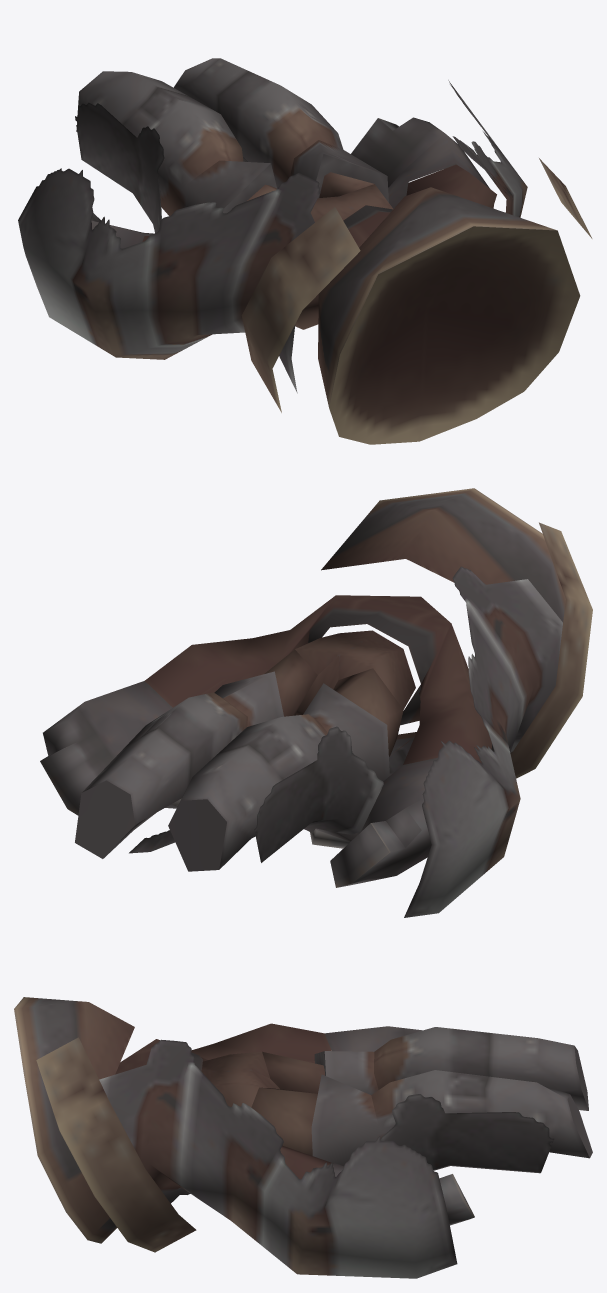
The model's file is jockey_hanging-suit_static.glb.
The picture shows the model from 3 angles, top to bottom: view 1: azimuth 30°, elevation 25°; view 2: azimuth 150°, elevation 25°; view 3: azimuth 270°, elevation 25°; orthographic projection. The views are drawn at different scales.
Parts seen in each view (by area): view 1: spacejockey.jockey_hanging-suit_static-MeshNodes["jockey_han (×5); view 2: spacejockey.jockey_hanging-suit_static-MeshNodes["jockey_han (×5); view 3: spacejockey.jockey_hanging-suit_static-MeshNodes["jockey_han (×5).
Boxes of the visible parts, <box> form: spacejockey.jockey_hanging-suit_static-MeshNodes["jockey_han (×5): <box>18,58,592,444</box>; spacejockey.jockey_hanging-suit_static-MeshNodes["jockey_han (×5): <box>40,488,592,917</box>; spacejockey.jockey_hanging-suit_static-MeshNodes["jockey_han (×5): <box>14,997,592,1278</box>.
Size of the model in its own units: 0.9388 by 0.5498 by 1.21.
Materials: 2 (2 with a texture image).
